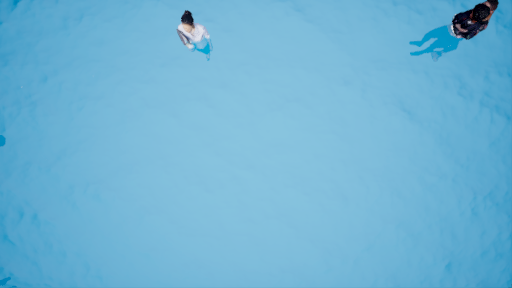person: (407, 1, 500, 66), (172, 4, 219, 64)
